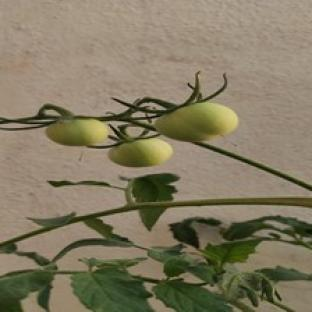Tomato: (155, 102, 238, 142), (108, 138, 172, 167), (46, 117, 108, 146)
